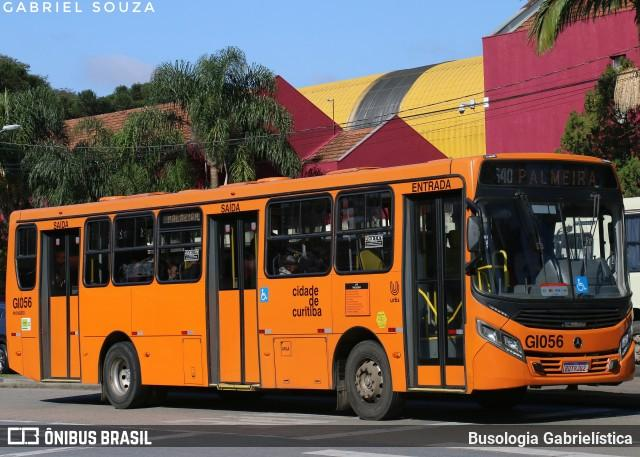PALMEIRA: (512, 164, 600, 191)
